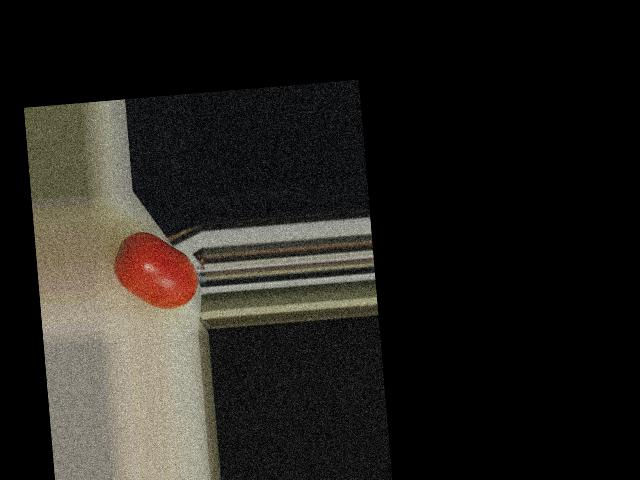tomato: (111, 227, 200, 313)
